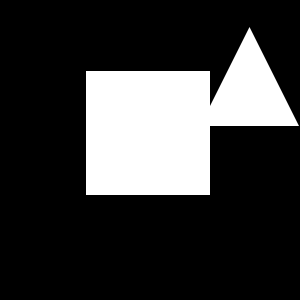circle: (86, 71, 210, 195)
triangle: (200, 27, 299, 126)
